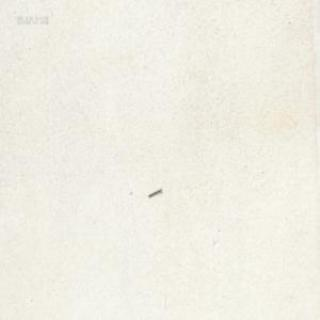Bolttrack_idkeyframe: (146, 186, 160, 198)
